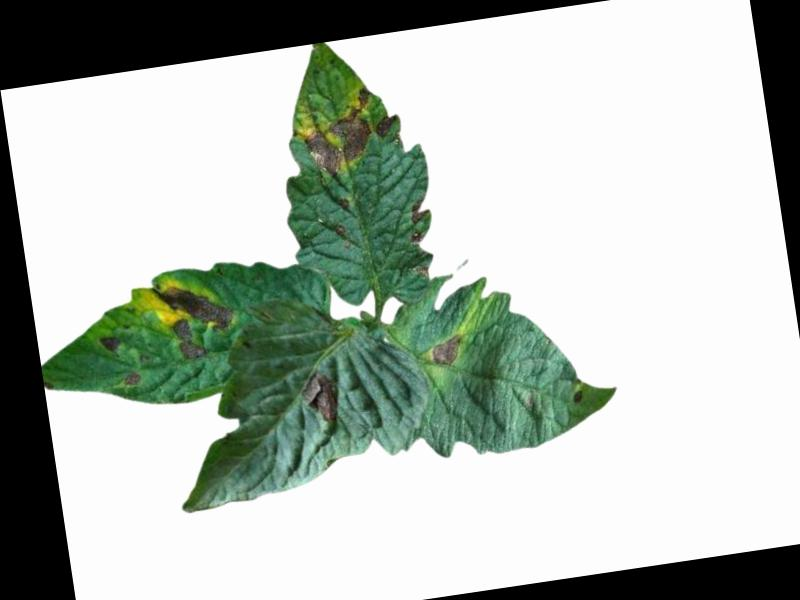Early_blight: (296, 85, 383, 179), (151, 277, 237, 366), (298, 365, 343, 428), (404, 198, 435, 245), (429, 334, 466, 368), (371, 110, 401, 140), (97, 332, 125, 354), (122, 372, 143, 388), (573, 388, 587, 407)
